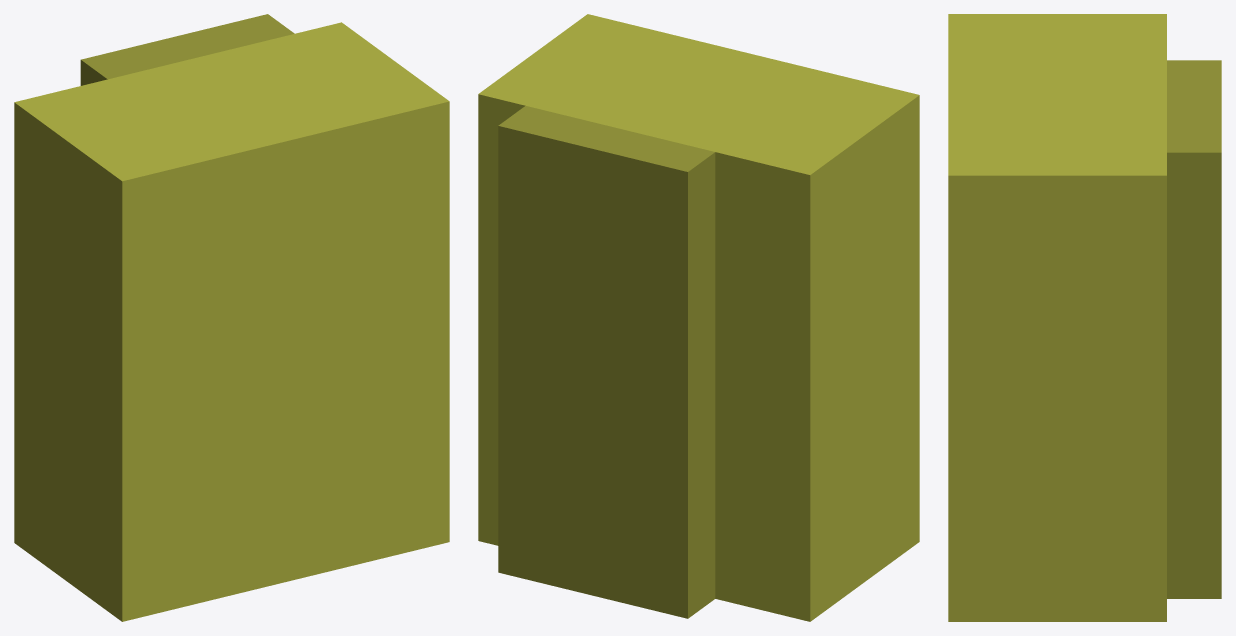
The model's file is legendario_pechera_trasgo_01.glb.
3 renders of one model, left to right at view 1: azimuth 30°, elevation 25°; view 2: azimuth 150°, elevation 25°; view 3: azimuth 270°, elevation 25°, orthographic.
Visible parts, largest first — view 1: legendario_pechera_trasgo; view 2: legendario_pechera_trasgo; view 3: legendario_pechera_trasgo.
Part boxes in pixels (<box>): legendario_pechera_trasgo: <box>14,14,449,621</box>; legendario_pechera_trasgo: <box>478,14,919,621</box>; legendario_pechera_trasgo: <box>948,14,1221,621</box>.
Size of the model in its own units: 0.5833 by 0.75 by 0.4167.
